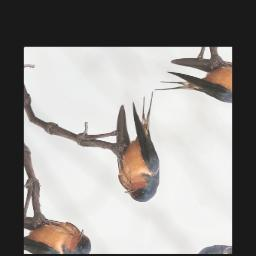Swallow: (78, 84, 207, 210)
